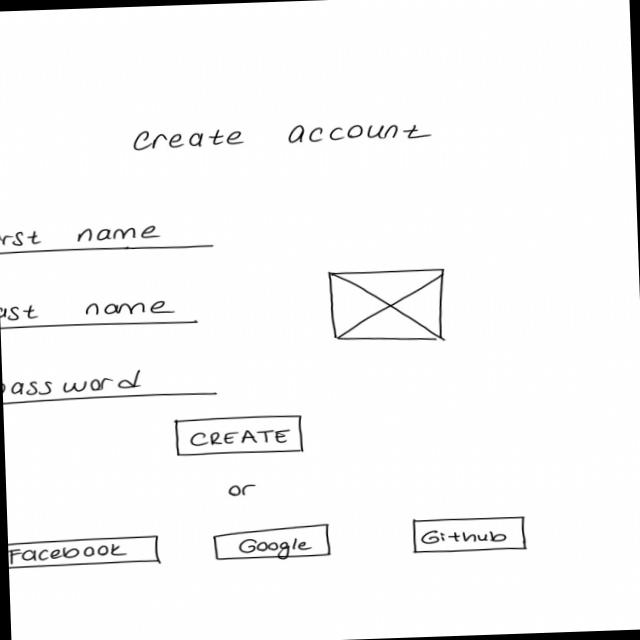button: (172, 411, 305, 459), (7, 531, 162, 572), (212, 521, 334, 564), (409, 512, 528, 556)
image: (323, 264, 448, 344), (227, 482, 260, 498)
input: (0, 208, 217, 258), (1, 364, 222, 406), (0, 288, 205, 332)
label: (128, 115, 437, 155)
